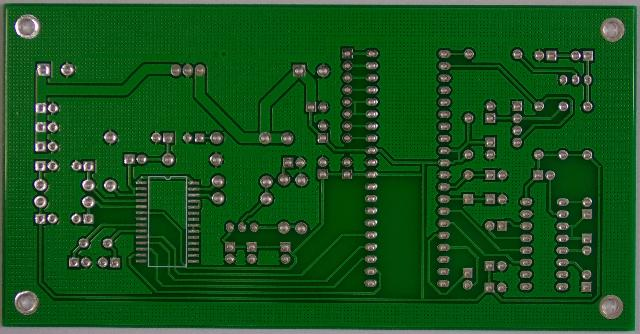short: (344, 98, 364, 118), (564, 224, 578, 242), (452, 146, 463, 164), (130, 186, 138, 196)
